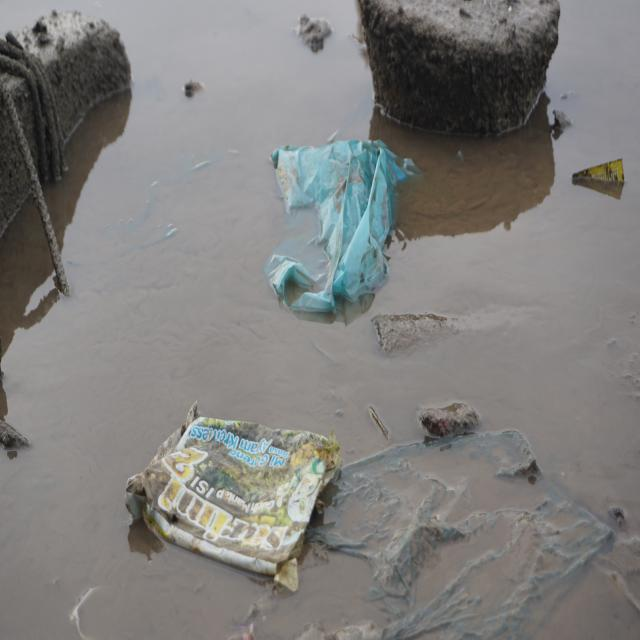Bungkus Makanan: (125, 400, 346, 599)
Kantong Plastik: (320, 425, 616, 640), (265, 141, 421, 315)
